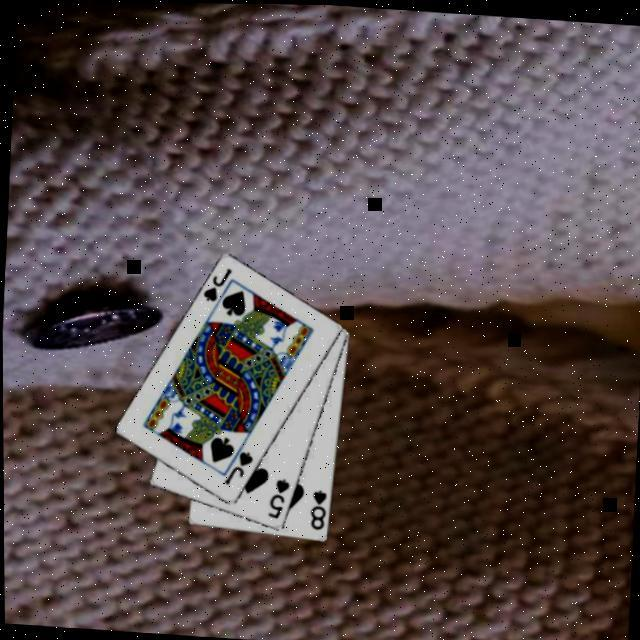5S: (265, 474, 293, 521)
8S: (307, 484, 330, 531)
JS: (200, 262, 236, 304), (222, 446, 257, 488)
